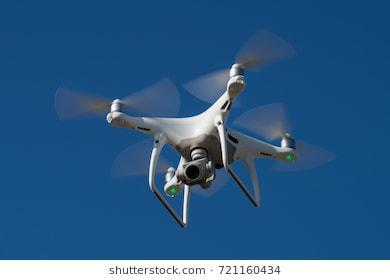drone: (105, 61, 301, 230)
